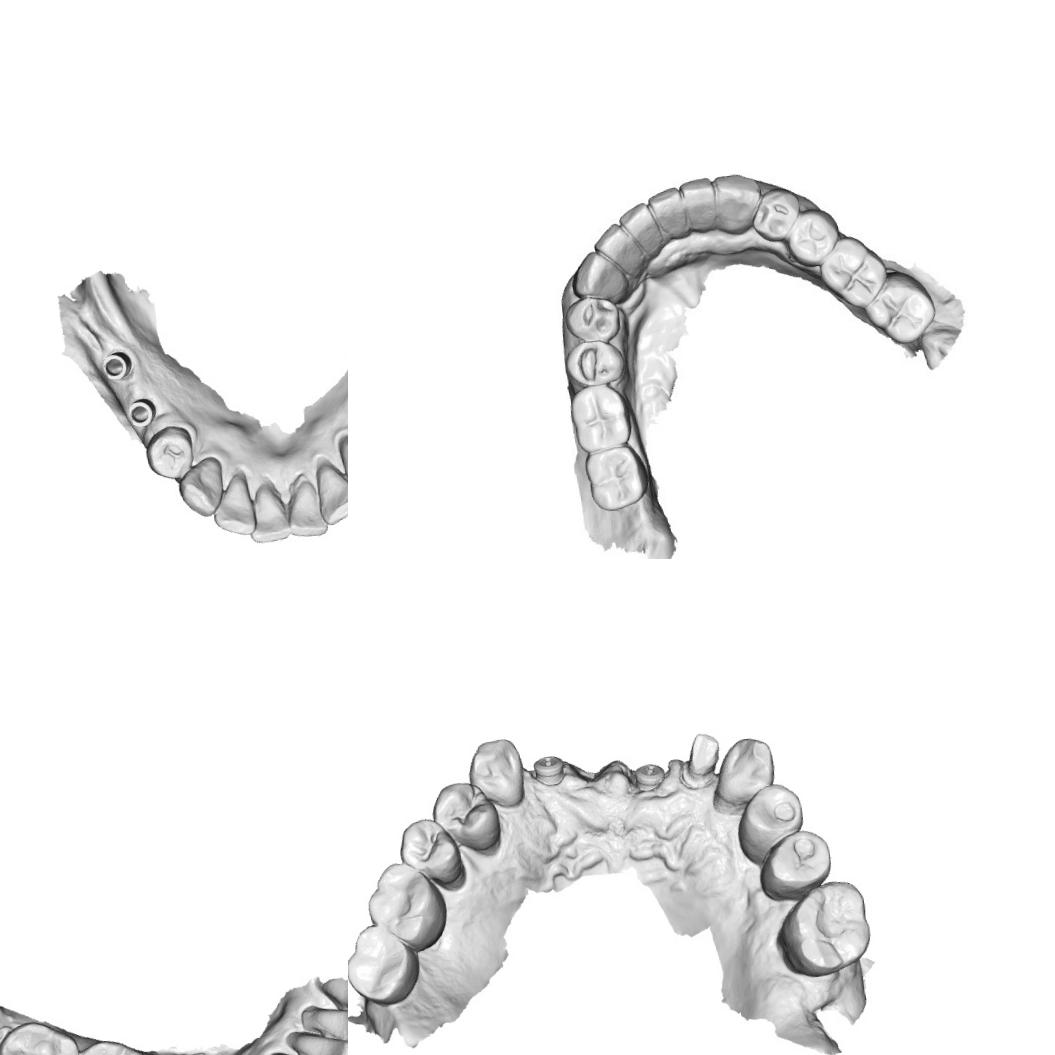canine: (710, 734, 780, 810), (464, 736, 528, 811), (567, 246, 631, 305), (173, 454, 228, 520), (710, 170, 763, 235)
crown: (682, 729, 724, 779)
implant: (99, 348, 134, 384), (124, 396, 158, 430)
implant_minus: (530, 753, 569, 789), (632, 756, 666, 794)
incisor: (208, 470, 258, 540), (244, 479, 294, 546), (591, 220, 644, 279), (297, 995, 348, 1055), (284, 475, 330, 540), (616, 201, 666, 259), (677, 172, 718, 235), (646, 184, 688, 243), (313, 459, 348, 528), (291, 1027, 348, 1055), (315, 974, 348, 1017)
molar: (770, 878, 876, 982), (361, 857, 451, 959), (348, 918, 424, 1011), (860, 266, 940, 348), (816, 230, 892, 316), (580, 441, 653, 515), (566, 380, 636, 454), (0, 1015, 85, 1055), (69, 1034, 157, 1055)
premolar: (732, 780, 809, 869), (753, 825, 836, 905), (426, 778, 505, 857), (390, 813, 467, 893), (745, 182, 808, 246), (781, 206, 842, 272), (560, 335, 631, 391), (140, 421, 198, 482), (562, 293, 625, 344)
